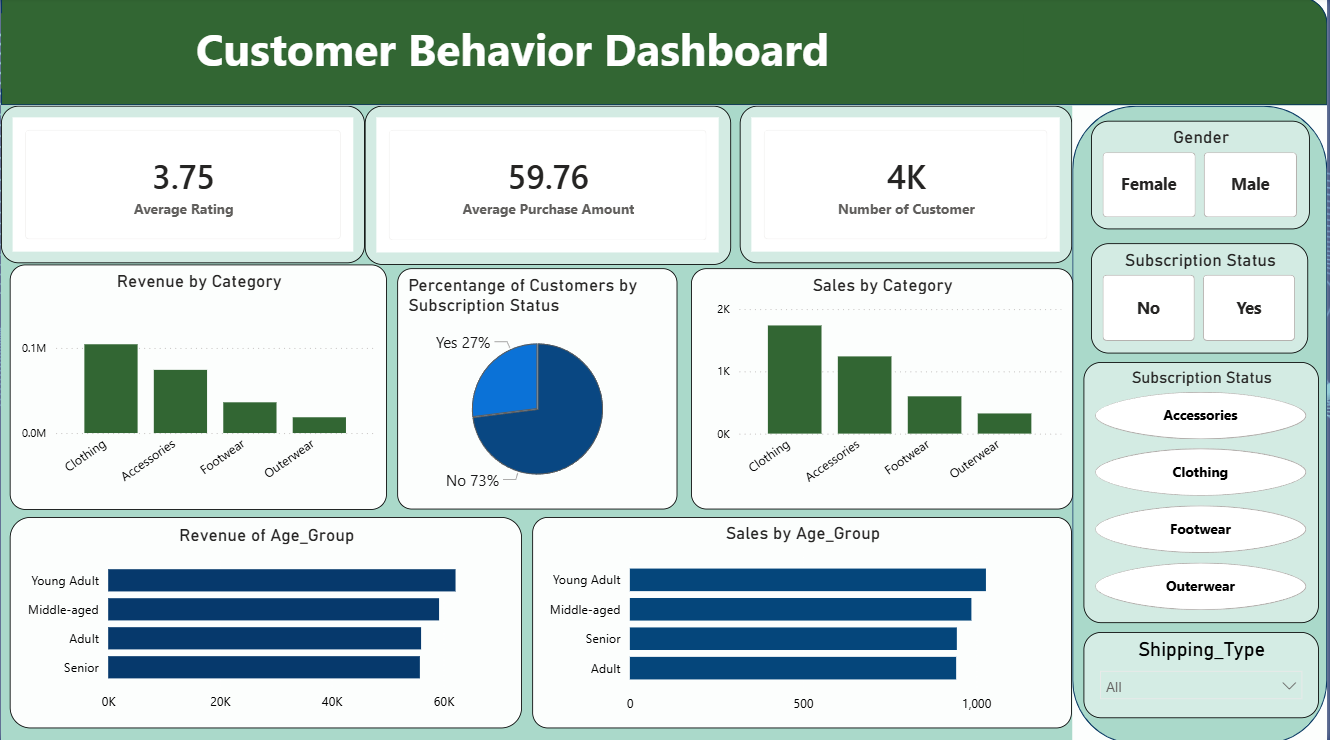

What the dashboard file says about the page in this screenshot:
{"tool":"powerbi","page":{"name":"Page 1","canvas":[1500,820],"ordinal":0},"visuals":[{"type":"cardVisual","fields":{"Data":["public customer.Number of Customers","public customer.Average Purchase Amount","public customer.Average Review Rating"]},"box":[212.9,115.3,1286.5,191.6],"z":2000},{"type":"shape","box":[218.3,585.6,631.7,234.2],"z":2500,"group":"g1"},{"type":"shape","box":[0,0,1499.4,115.3],"z":3000},{"type":"textbox","box":[0,12.4,1499.4,102.9],"z":4000},{"type":"shape","box":[225.4,307,420.5,278.6],"z":5000},{"type":"donutChart","title":"% of Customers by Subscription Status","fields":{"Category":["public customer.subscription_status"],"Y":["Sum(public customer.customer_id)"]},"box":[248.4,331.8,376.2,237.8],"z":6000},{"type":"shape","box":[1078.9,307,420.5,278.6],"z":7000},{"type":"shape","box":[652.1,307,420.5,278.6],"z":8000},{"type":"clusteredColumnChart","title":"Revenue by Category","fields":{"Y":["Sum(public customer.purchase_amount)"],"Category":["public customer.category"]},"box":[667.2,331.8,385.1,237.8],"z":9000},{"type":"clusteredColumnChart","title":"Sales by Category","fields":{"Y":["Sum(public customer.customer_id)"],"Category":["public customer.category"]},"box":[1096.6,331.8,385.1,237.8],"z":10000},{"type":"shape","box":[0,115.3,212.9,704.5],"z":11000},{"type":"advancedSlicerVisual","fields":{"Values":["public customer.subscription_status"]},"box":[19.5,161.5,173.9,85.2],"z":12000},{"type":"advancedSlicerVisual","fields":{"Values":["public customer.gender"]},"box":[19.5,264.4,173.9,85.2],"z":13000},{"type":"advancedSlicerVisual","fields":{"Values":["public customer.category"]},"box":[14.2,358.4,179.2,186.3],"z":14000},{"type":"listSlicer","fields":{"Values":["public customer.shipping_type"]},"box":[19.5,569.6,168.6,220],"z":15000},{"type":"shape","box":[867.7,585.6,631.7,234.2],"z":16000},{"type":"clusteredBarChart","title":"Sales by Age Group","fields":{"Y":["Sum(public customer.customer_id)"],"Category":["public customer.age_group"]},"box":[890.8,601.5,585.6,204.1],"z":17000},{"type":"clusteredBarChart","title":"Revenue by Age Group","fields":{"Y":["Sum(public customer.purchase_amount)"],"Category":["public customer.age_group"]},"box":[241.4,601.6,585.6,204.1],"z":17500,"group":"g1"},{"type":"group","id":"g1","title":"Group 1","box":[218.3,585.6,631.7,234.2],"z":17501}]}

Visuals, with their boxes in screenshot pixels (x1, y1, x2, y2), scaled from the page's 1500x820 canvas onto the 1330x740 screenshot:
cardVisual - public customer.Number of Customers x public customer.Average Purchase Amount: <region>189, 104, 1329, 277</region>
shape: <region>194, 528, 754, 739</region>
shape: <region>0, 0, 1329, 104</region>
textbox: <region>0, 11, 1329, 104</region>
shape: <region>200, 277, 573, 528</region>
"% of Customers by Subscription Status" donutChart: <region>220, 299, 554, 514</region>
shape: <region>957, 277, 1329, 528</region>
shape: <region>578, 277, 951, 528</region>
"Revenue by Category" clusteredColumnChart: <region>592, 299, 933, 514</region>
"Sales by Category" clusteredColumnChart: <region>972, 299, 1314, 514</region>
shape: <region>0, 104, 189, 739</region>
advancedSlicerVisual - public customer.subscription_status: <region>17, 146, 171, 223</region>
advancedSlicerVisual - public customer.gender: <region>17, 239, 171, 315</region>
advancedSlicerVisual - public customer.category: <region>13, 323, 171, 492</region>
listSlicer - public customer.shipping_type: <region>17, 514, 167, 713</region>
shape: <region>769, 528, 1329, 739</region>
"Sales by Age Group" clusteredBarChart: <region>790, 543, 1309, 727</region>
"Revenue by Age Group" clusteredBarChart: <region>214, 543, 733, 727</region>
"Group 1" group: <region>194, 528, 754, 739</region>
